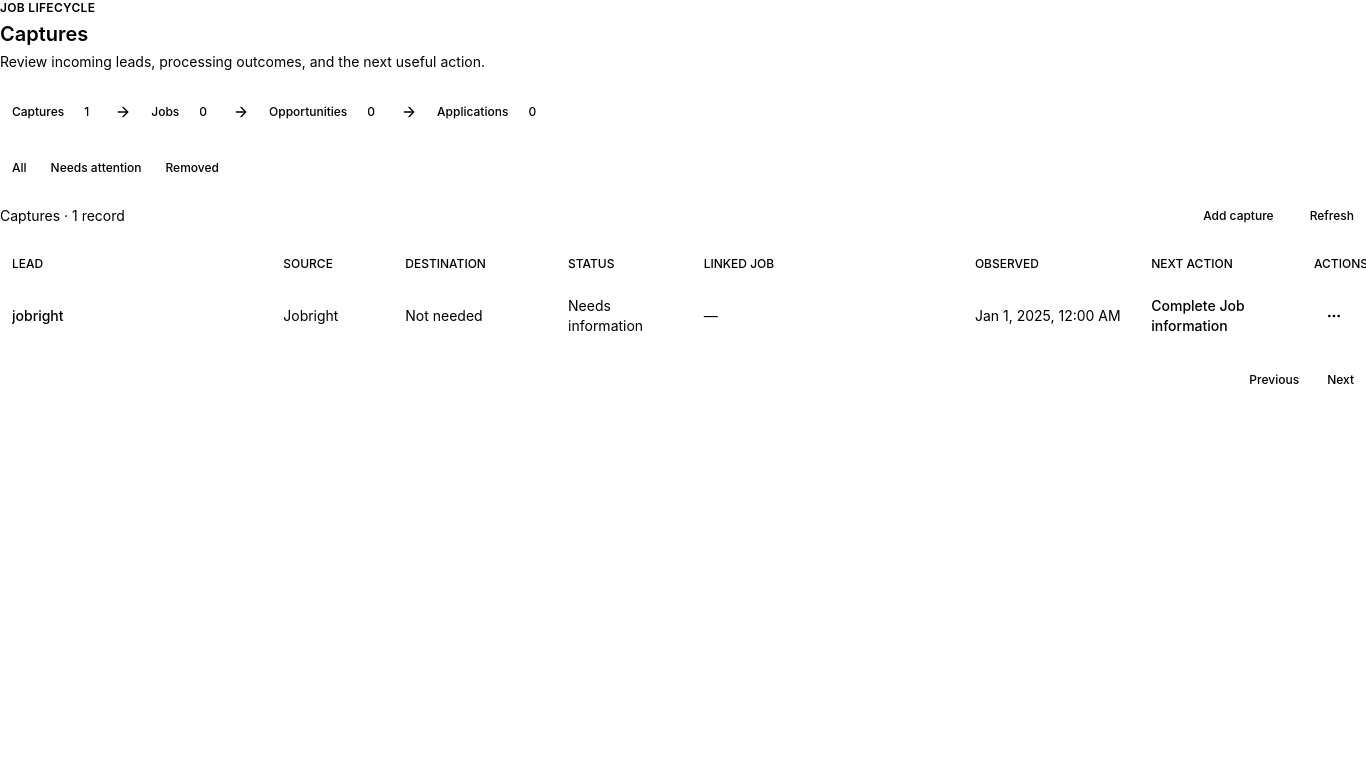
Test: LifecycleWorkbench action matrices and modal flows › retains Capture removal context and reports failures without a success claim
Click the button named "Actions for row jobright" at x=1334, y=316, box [1314,300,1354,332]
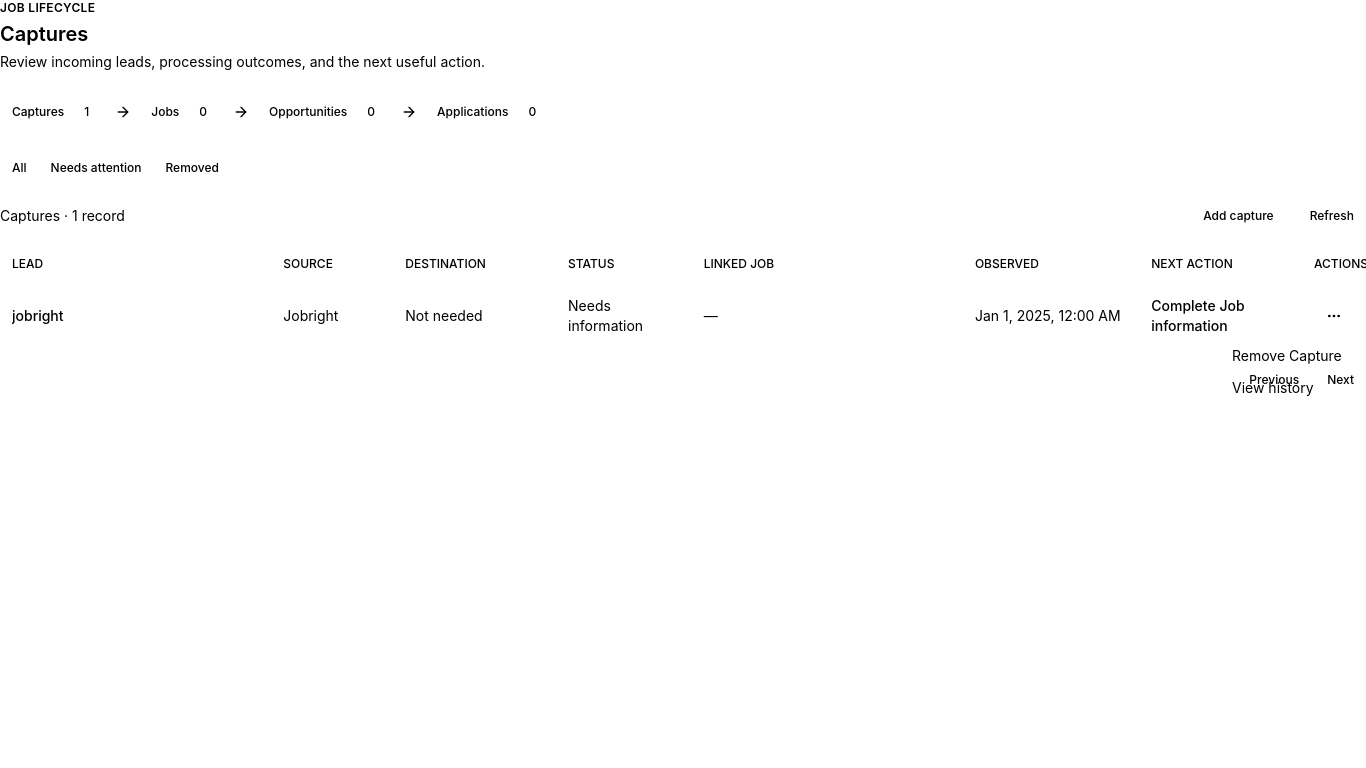
Click the menu item "Remove Capture" at x=1287, y=356, box [1232,347,1342,364]
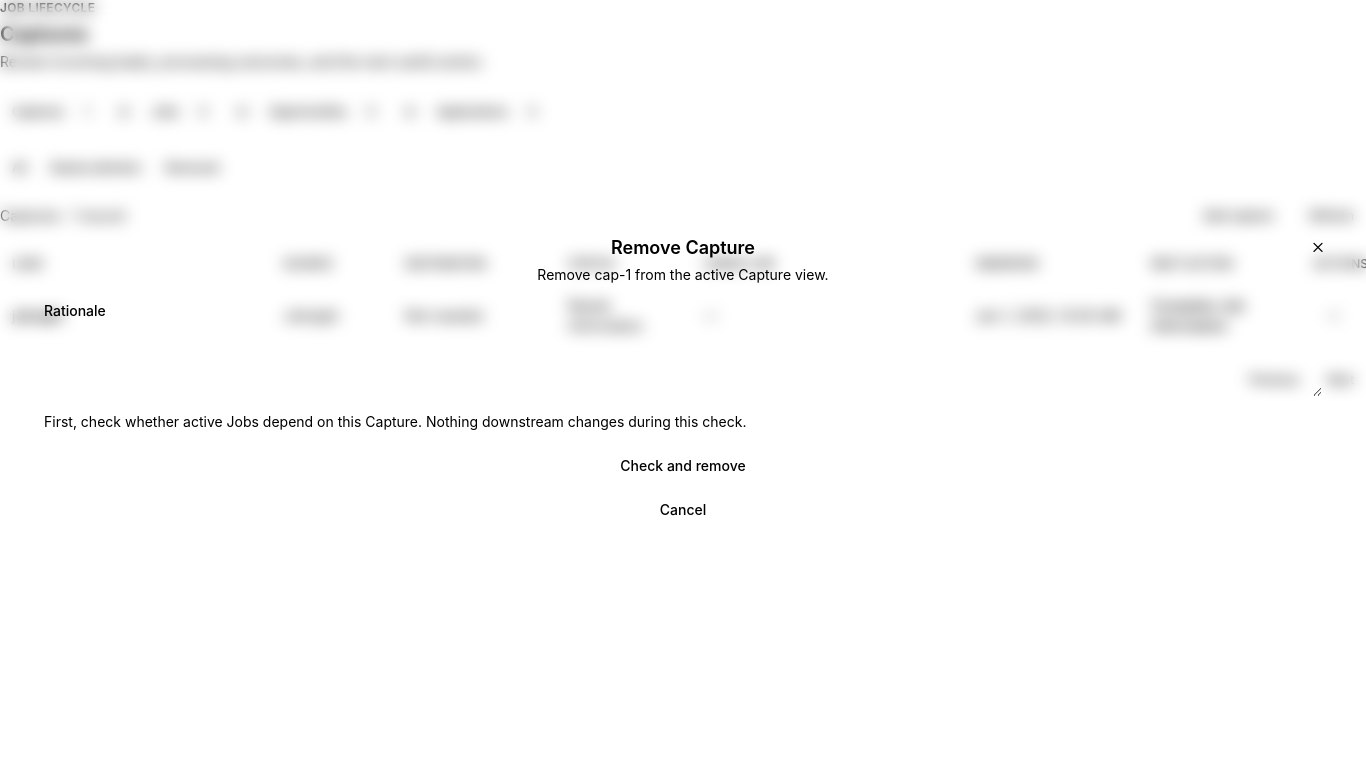
Type "No longer relevant." into the text box labelled "Rationale" at x=683, y=365, box [44,333,1322,397]
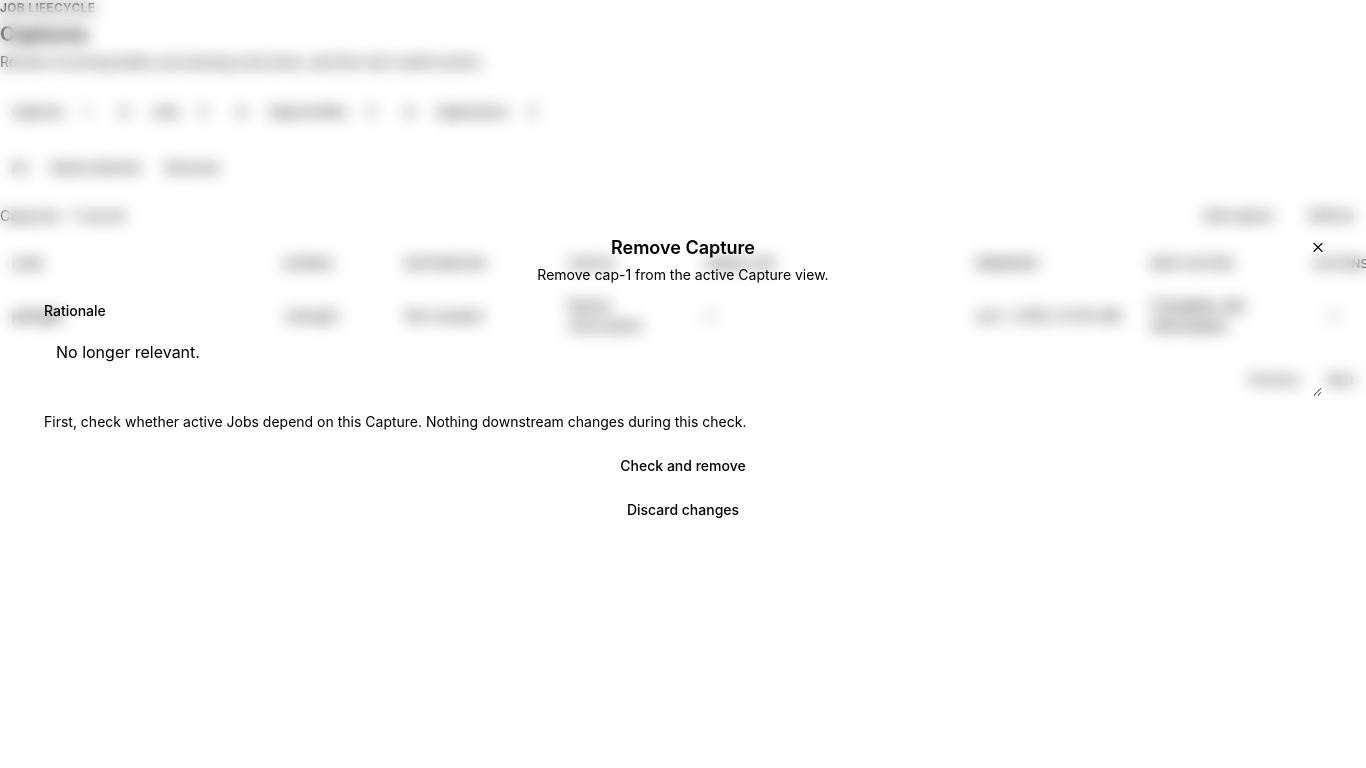
Click the button "Check and remove" at x=683, y=467, box [40,449,1326,485]
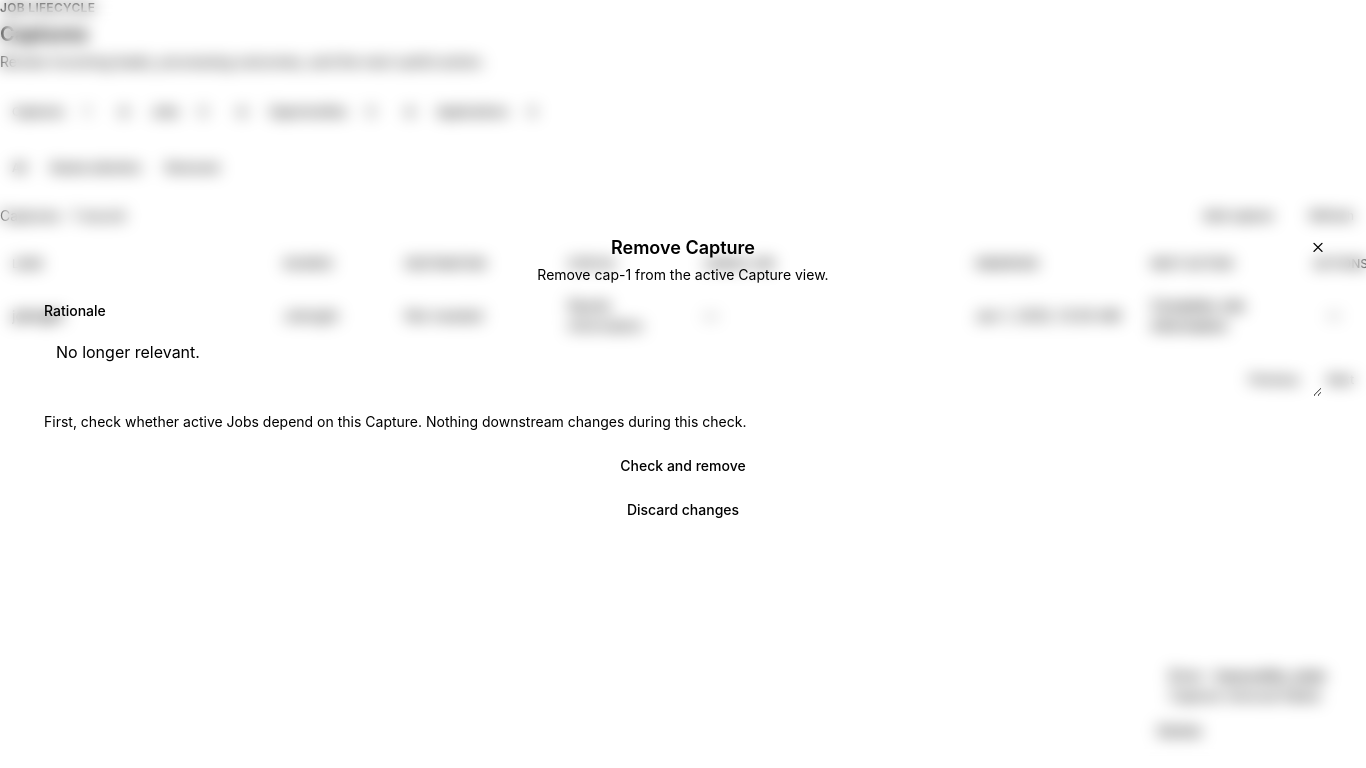
Expected: the message with test id "lifecycle-outcome-error" does not show "ECONNREFUSED", [1158,658,1338,714]
Now the dialog "Remove Capture" is shown, box [16,215,1350,553]
Now the message with test id "lifecycle-outcome-error" shows "Capture removal failed.", box [1170,687,1323,704]
